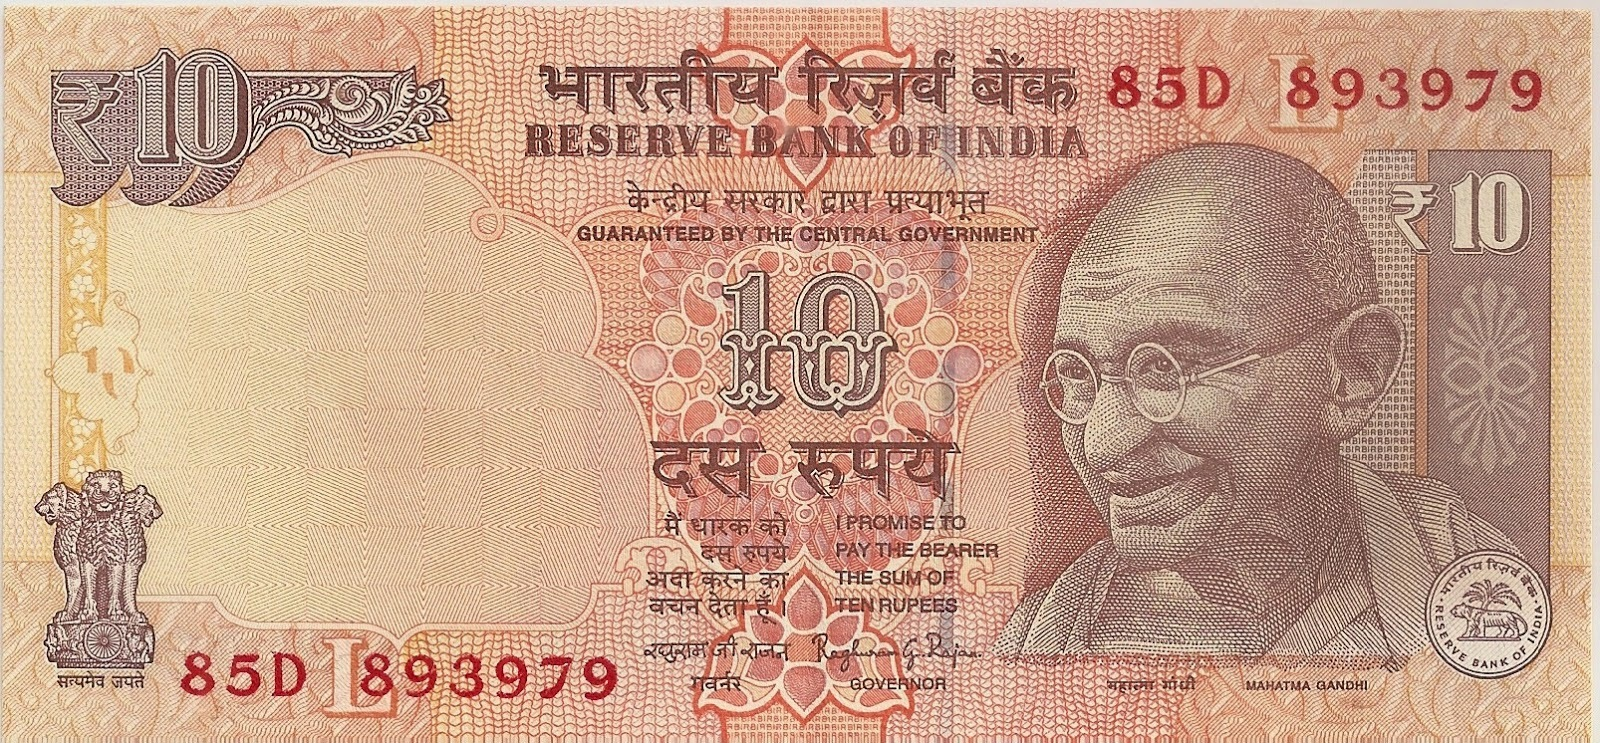ten_rupees_note: (5, 4, 1589, 743)
